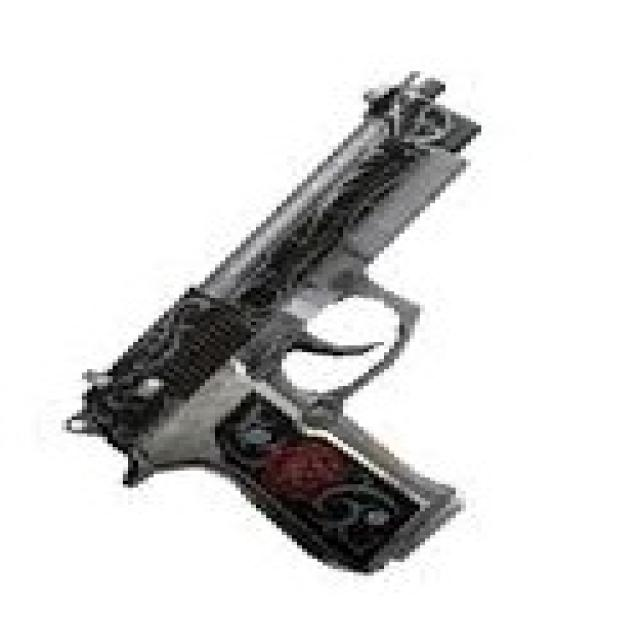pistol: (56, 58, 487, 576)
